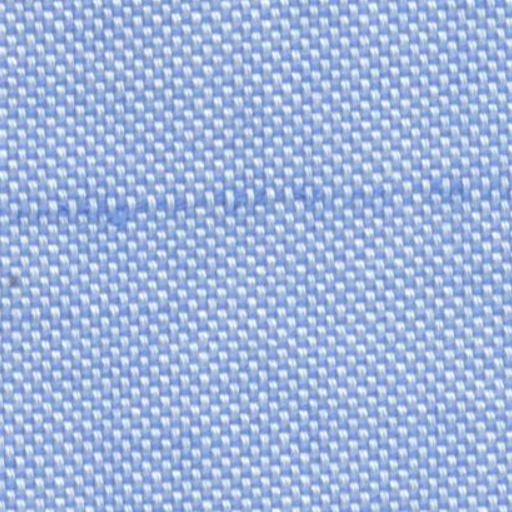DaiSha: (5, 170, 488, 227)
